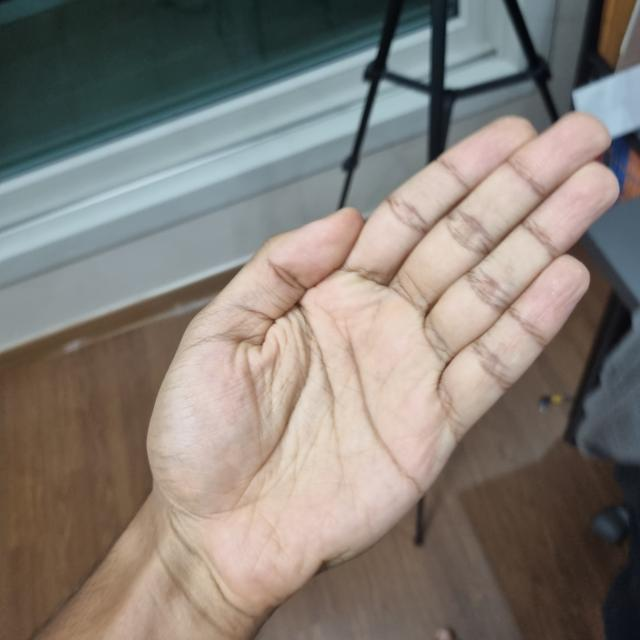Paper: (150, 111, 624, 591)
